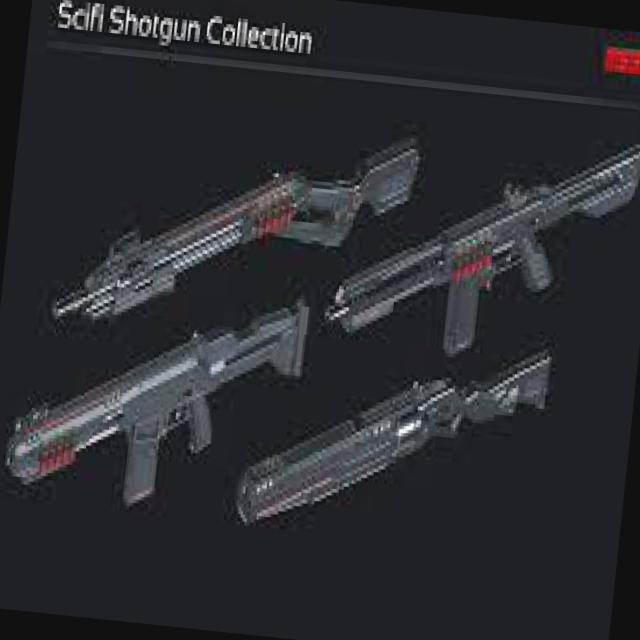long weapon: (24, 106, 423, 367), (0, 278, 315, 557), (213, 331, 584, 563), (326, 118, 639, 373)
